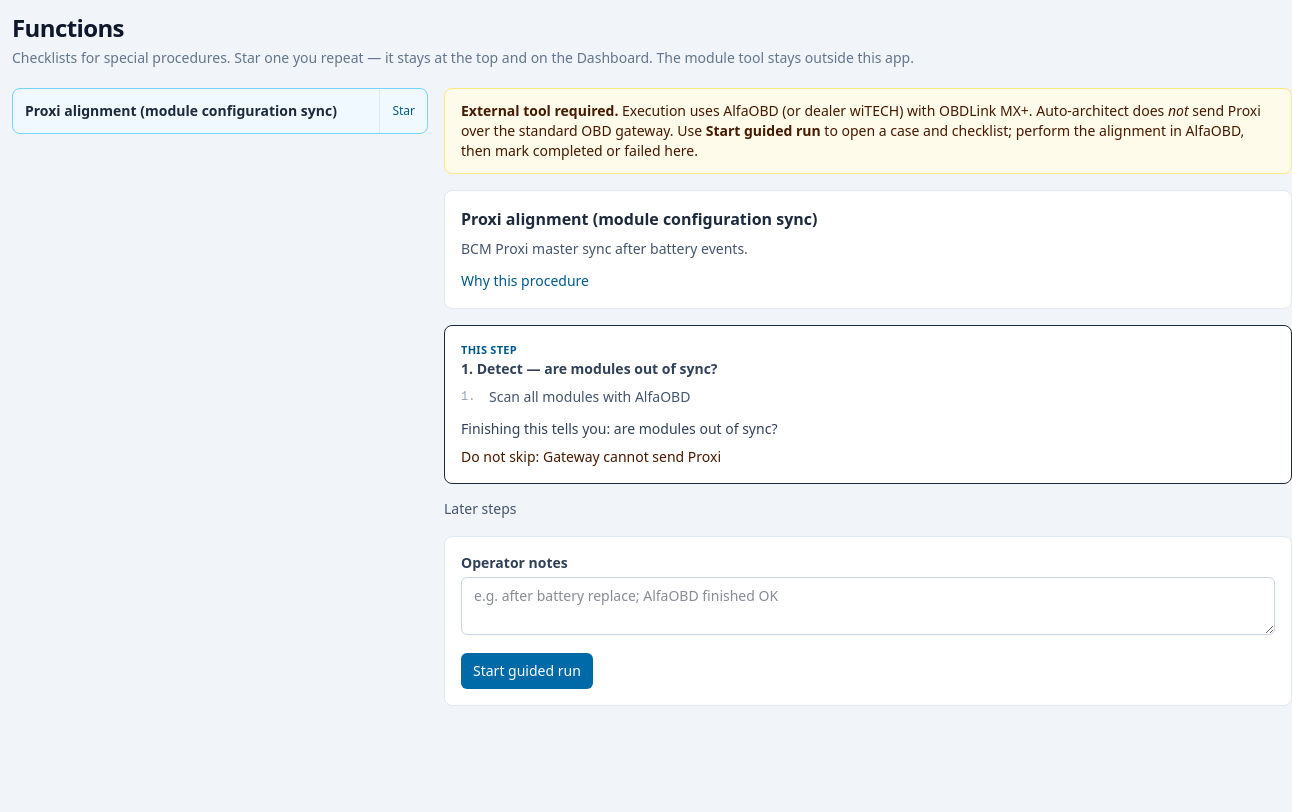
Test: Functions › pins Proxi alignment as a favorite
The width and height of the screenshot is (1292, 812).
Step 1. Click the button with aria-label "Favorite Proxi alignment (module configuration sync)" → point(403, 111), box [379,89,427,133]
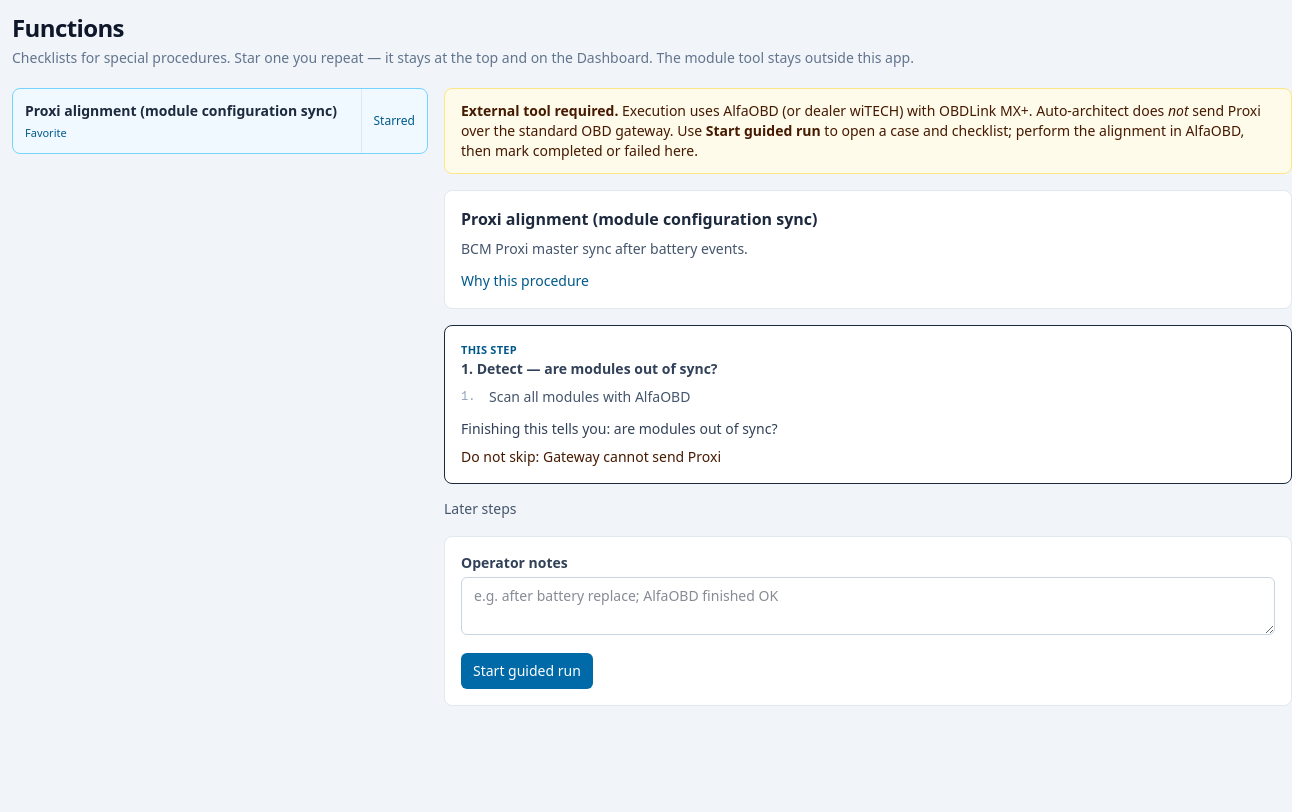
Result: the text "Favorite" is shown at [25,125,67,140]
